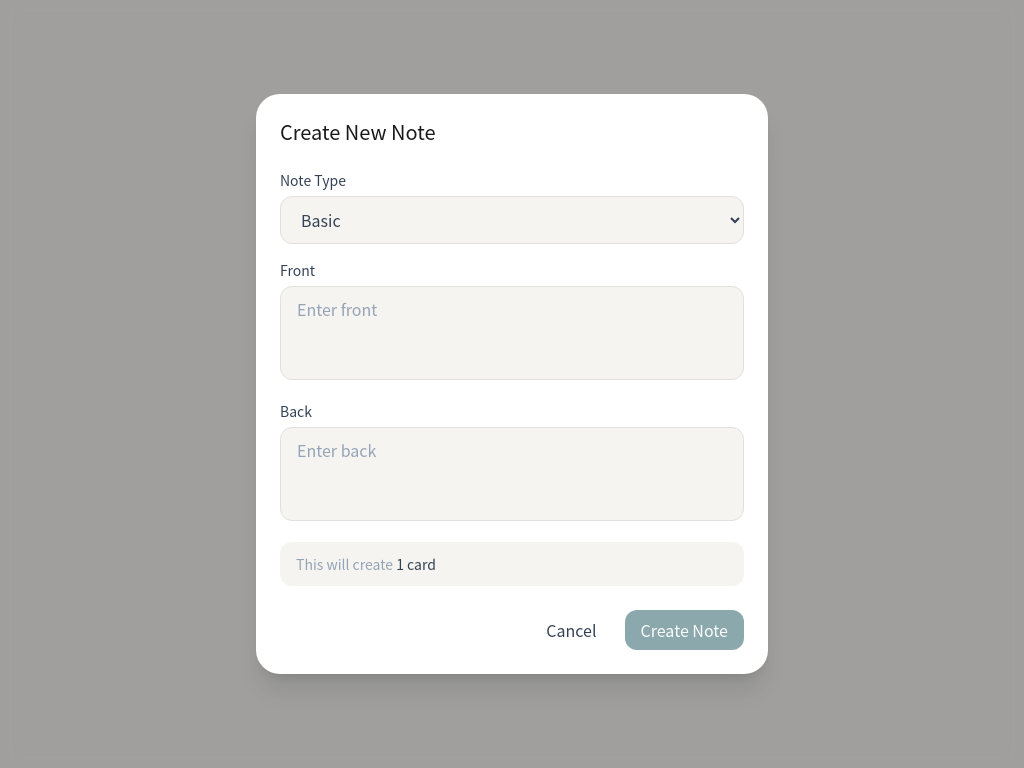
CreateNoteModal › shows loading state during submission
Type "Question" into the text box labelled "Front".
click(512, 333); type("Question")  # box [280,286,744,380]
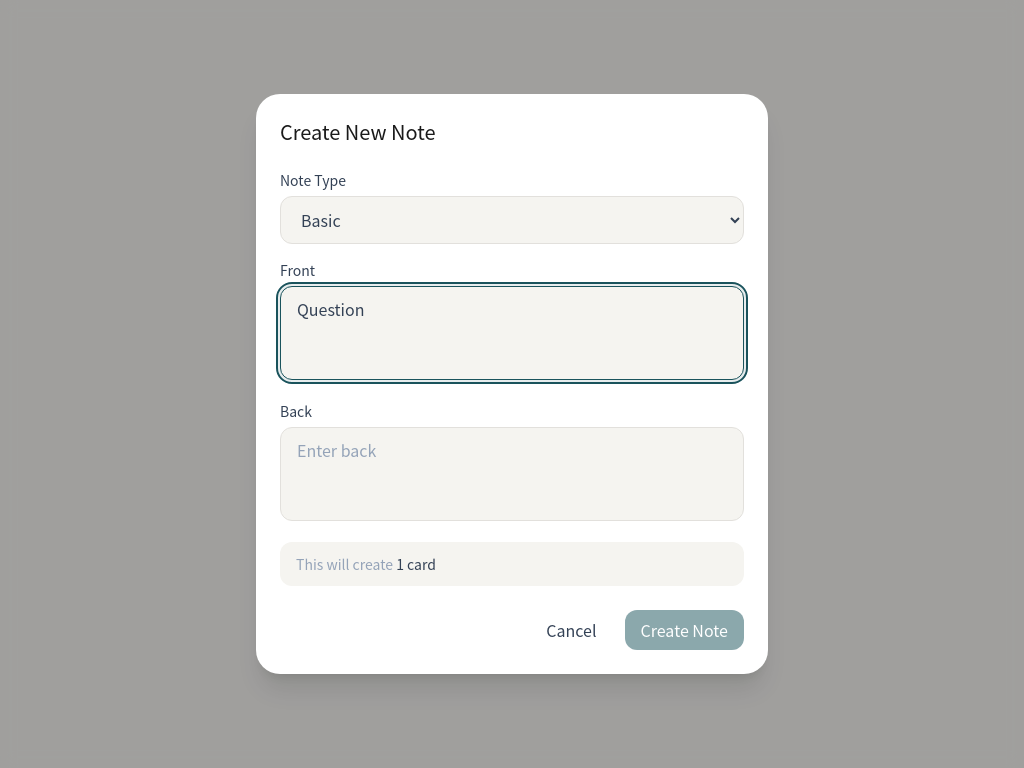
Type "Answer" into the text box labelled "Back".
click(512, 474); type("Answer")  # box [280,427,744,521]
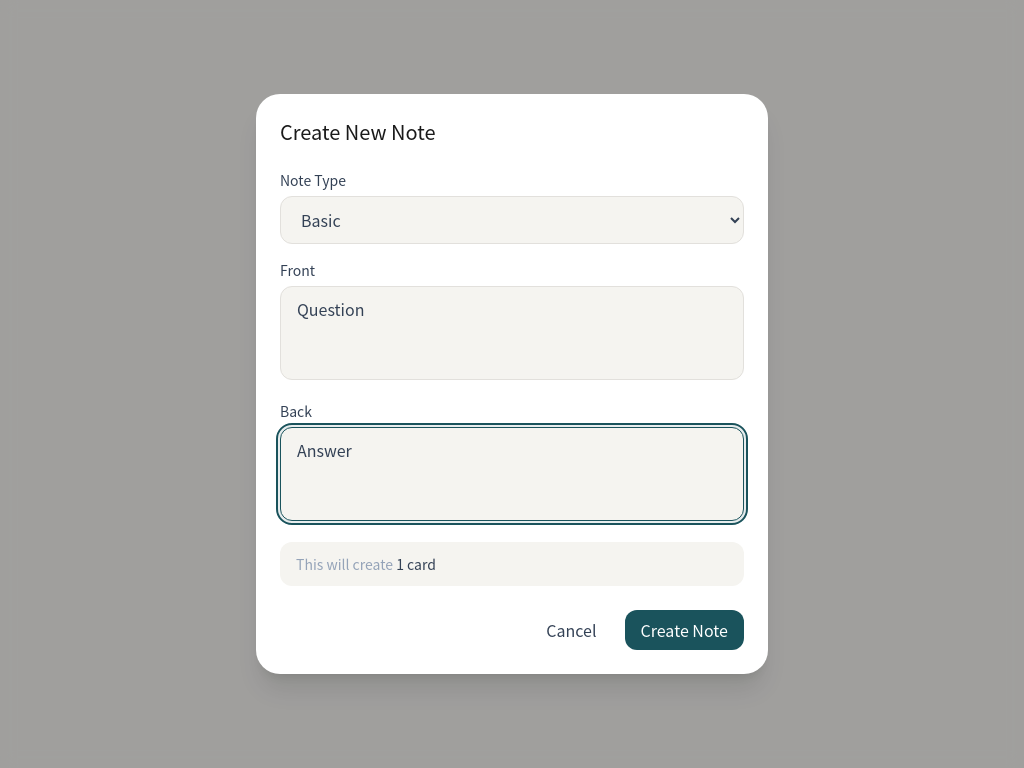
Click the button "Create Note".
click(684, 630)  # box [624,610,744,650]
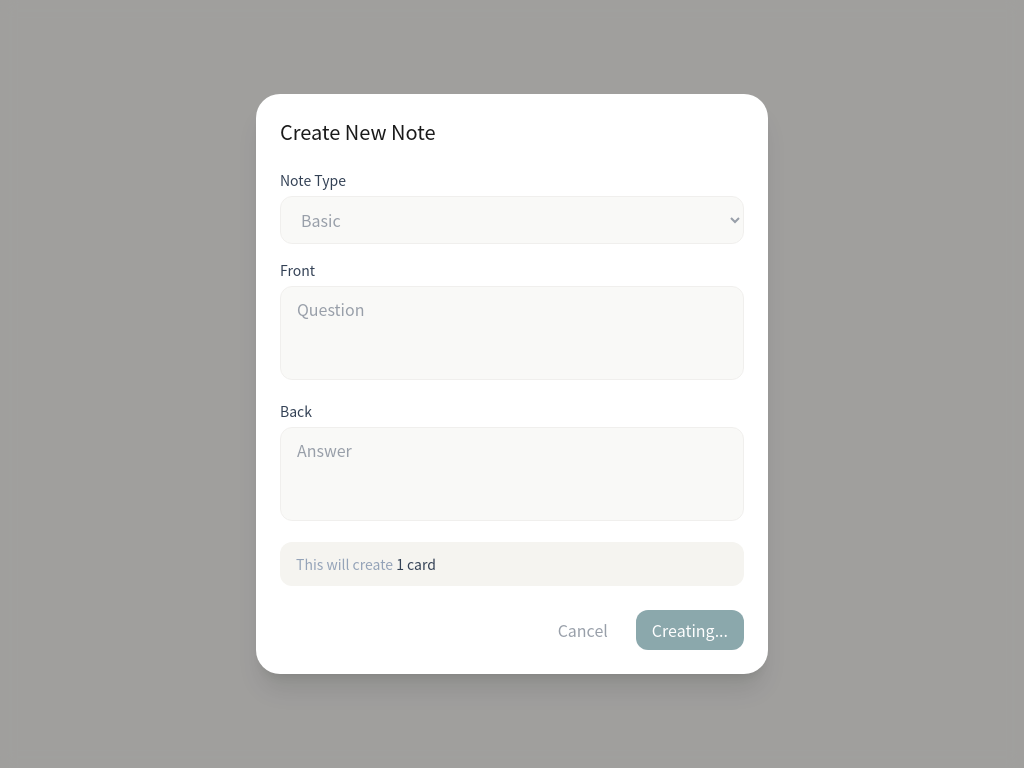
Expected: the button "Creating..." is disabled, [636,610,744,650]
